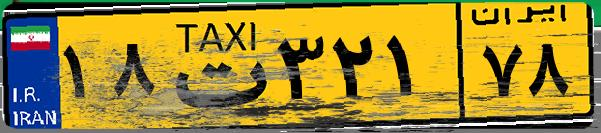1: (385, 28, 445, 110), (57, 26, 110, 100)
2: (330, 28, 385, 110)
3: (270, 28, 330, 110)
7: (475, 38, 525, 113)
8: (525, 38, 570, 115), (110, 28, 158, 98)
ت: (158, 12, 270, 120)
